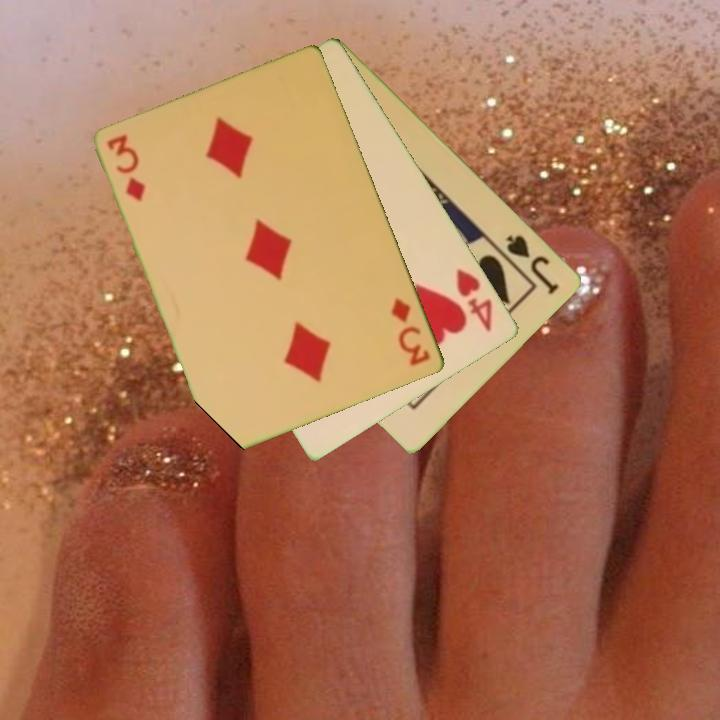3d: (387, 294, 434, 370), (103, 131, 149, 206)
4h: (453, 265, 496, 335)
Js: (503, 231, 563, 298)
